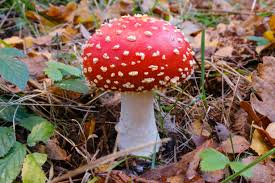Amanita muscaria: (74, 9, 200, 154)
